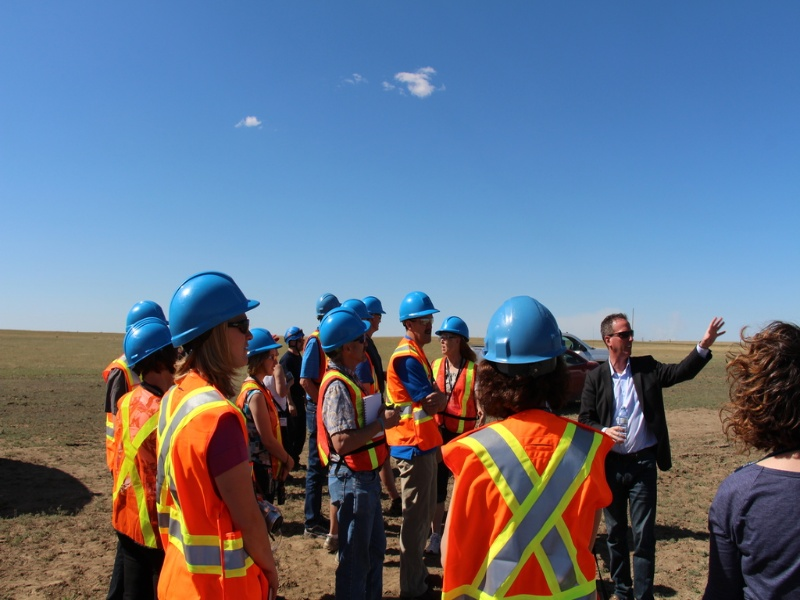Baret: (168, 271, 263, 347), (481, 296, 571, 364), (122, 317, 176, 366), (319, 308, 371, 350), (401, 291, 439, 319), (432, 315, 471, 336), (285, 327, 306, 343)
